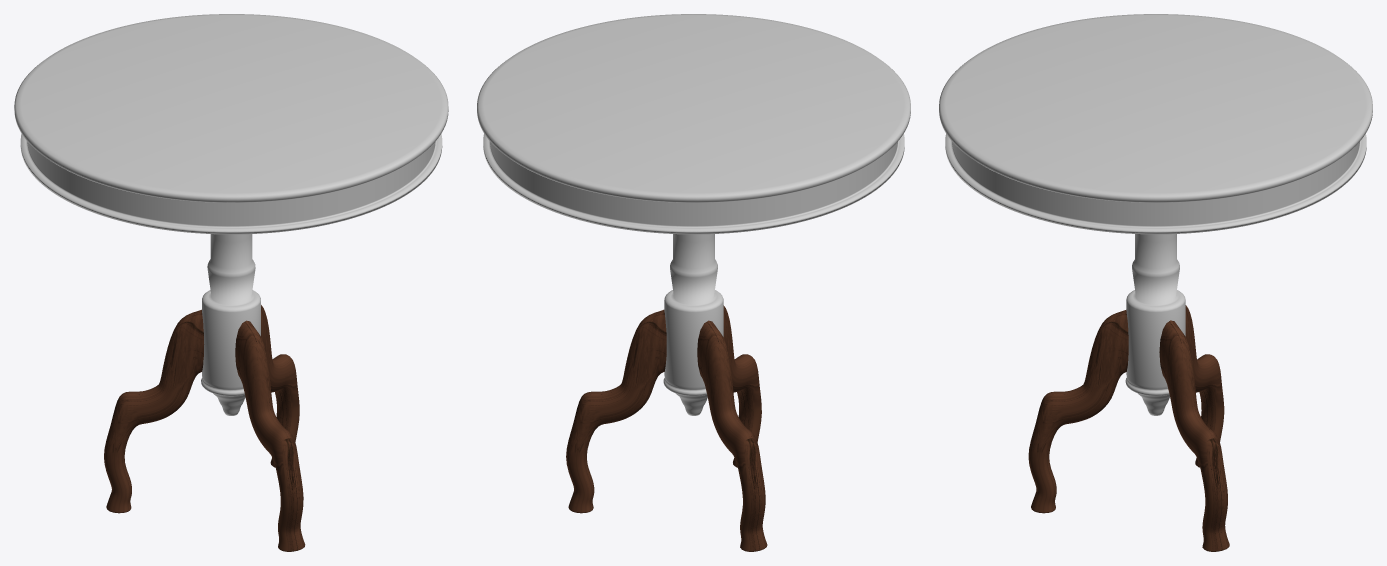
Rendered from table.gltf.
3 views of the same model, side by side, from view 1: azimuth 30°, elevation 25°; view 2: azimuth 150°, elevation 25°; view 3: azimuth 270°, elevation 25° (orthographic).
Parts seen in each view (by area): view 1: Table, Feet; view 2: Table, Feet; view 3: Table, Feet.
Boxes of the visible parts, box(x1,y1,x2,y2) form: Table: box(14, 14, 448, 415); Feet: box(104, 305, 305, 551); Table: box(477, 14, 910, 415); Feet: box(566, 305, 767, 551); Table: box(939, 14, 1372, 415); Feet: box(1028, 305, 1229, 551).
Size of the model in its own units: 0.9442 by 0.9664 by 0.9442.
